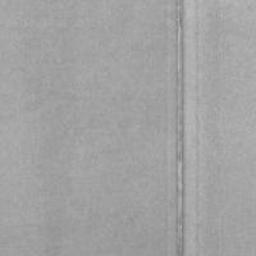Welding line: (175, 0, 183, 256)
